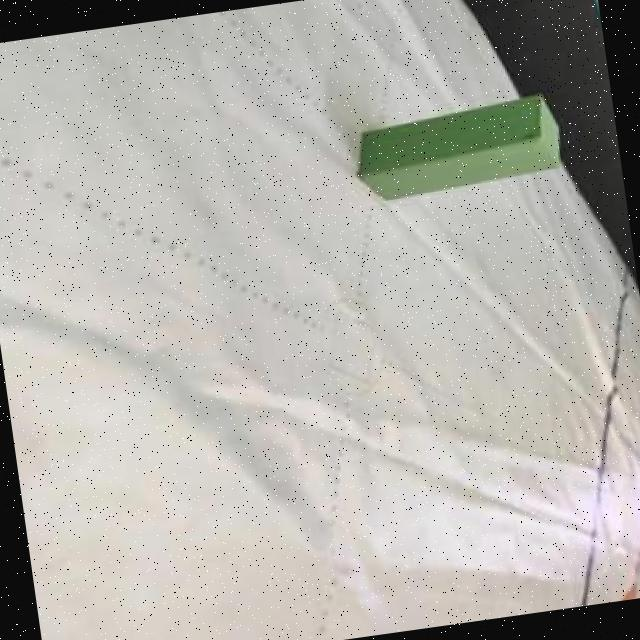greenbox: (351, 87, 569, 203)
